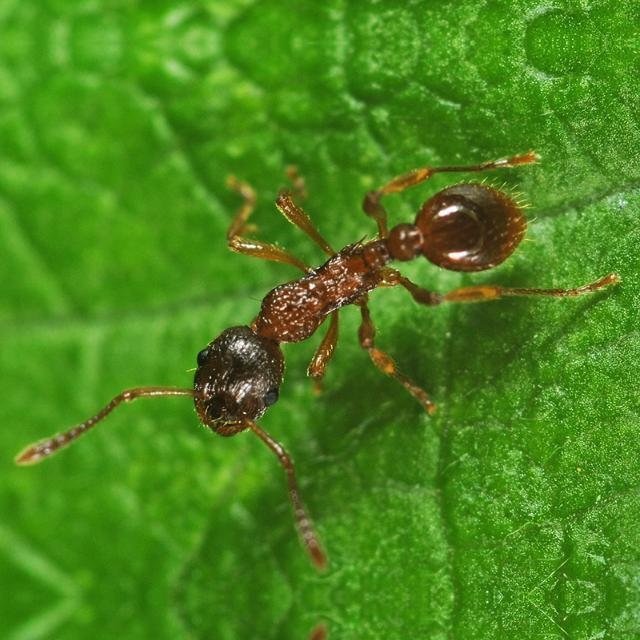Myrmica: (144, 100, 560, 478)
